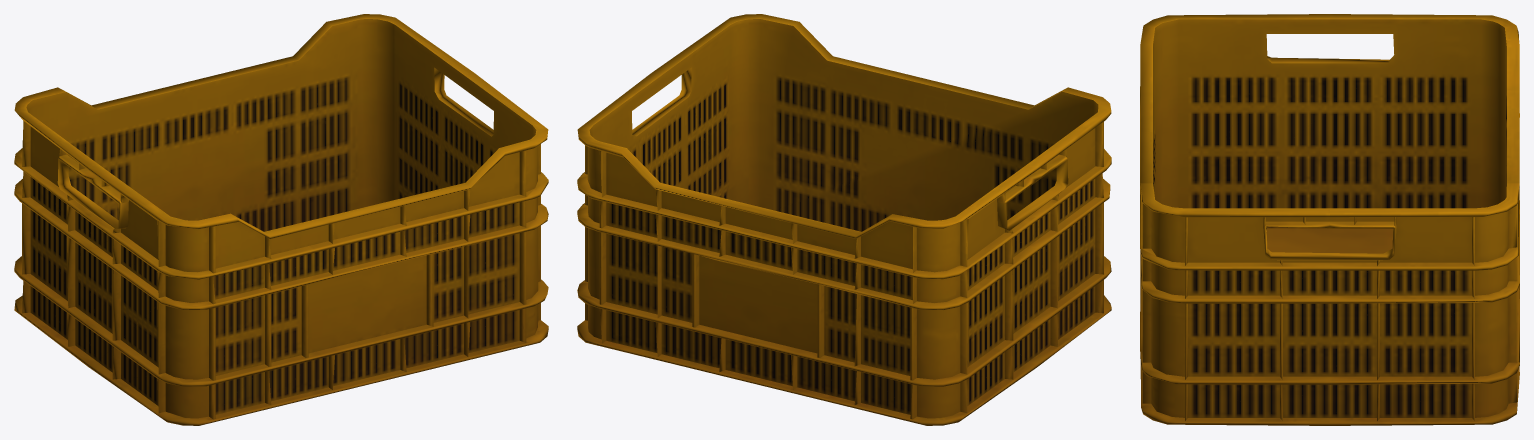
File: plastic_crate_02.glb
The picture shows the model from 3 angles, left to right: view 1: azimuth 30°, elevation 25°; view 2: azimuth 150°, elevation 25°; view 3: azimuth 270°, elevation 25°; orthographic projection. The views are drawn at different scales.
Parts seen in each view (by area): view 1: plastic_crate_02; view 2: plastic_crate_02; view 3: plastic_crate_02.
Boxes of the visible parts, x1,y1,x2,y2 form: plastic_crate_02: (14,14,548,425); plastic_crate_02: (577,14,1111,425); plastic_crate_02: (1140,14,1519,425).
Size of the model in its own units: 0.5055 by 0.2541 by 0.4055.
1 material, 1 textured.
